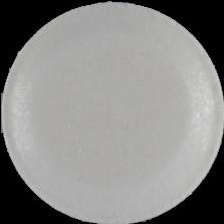0781-5220: (0, 0, 224, 224)
